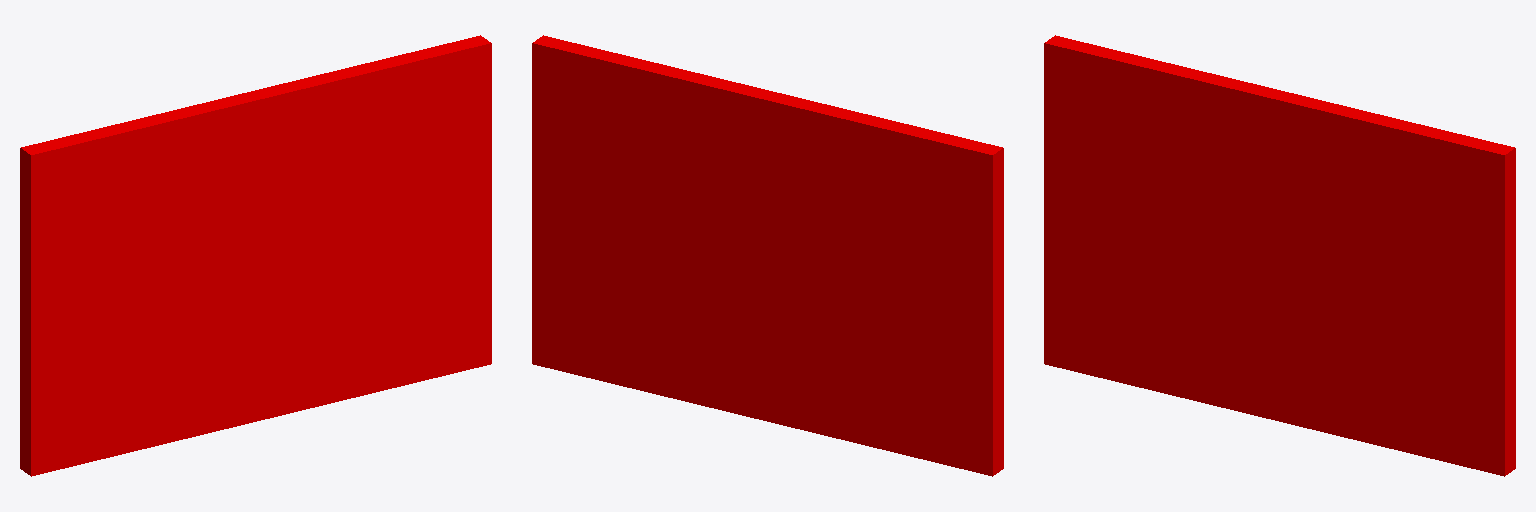
The robot description file, URDF, robot "simple_box2":
<robot name="simple_box2">
  <link name="cube">
    <inertial>
      <origin xyz="0 0 0" /> 
      <mass value="100.0" />
      <inertia  ixx="0.0" ixy="0.0"  ixz="0.0"  iyy="0.0"  iyz="0.0"  izz="0.0" />
    </inertial>
    <visual>
      <origin xyz="0 0 0"/>
      <geometry>
        <box size="0.75 0.03 0.5" />
      </geometry>
      <material name="red"><color rgba="1 0 0 1"/></material>
    </visual>
    <collision>
      <origin xyz="0 0 0"/>
      <geometry>
        <box size="0.75 0.03 0.5" />
      </geometry>
    </collision>
  </link>
</robot>

--- Render facts (derived) ---
3 views of the same robot in one strip: view 1: azimuth 30°, elevation 25°; view 2: azimuth 150°, elevation 25°; view 3: azimuth 330°, elevation 25° (orthographic).
Robot: simple_box2 — 1 links, 0 joints (none); root link cube; default pose: all joints at 0.
Links seen in each view (by area): view 1: cube; view 2: cube; view 3: cube.
Boxes of the visible links, <box> form: cube: <box>20,35,491,476</box>; cube: <box>532,35,1003,476</box>; cube: <box>1044,35,1515,476</box>.
Size in the robot's own frame: 0.75 by 0.03 by 0.5 metres.
Geometry: primitives only (box / cylinder / sphere), no mesh files.
